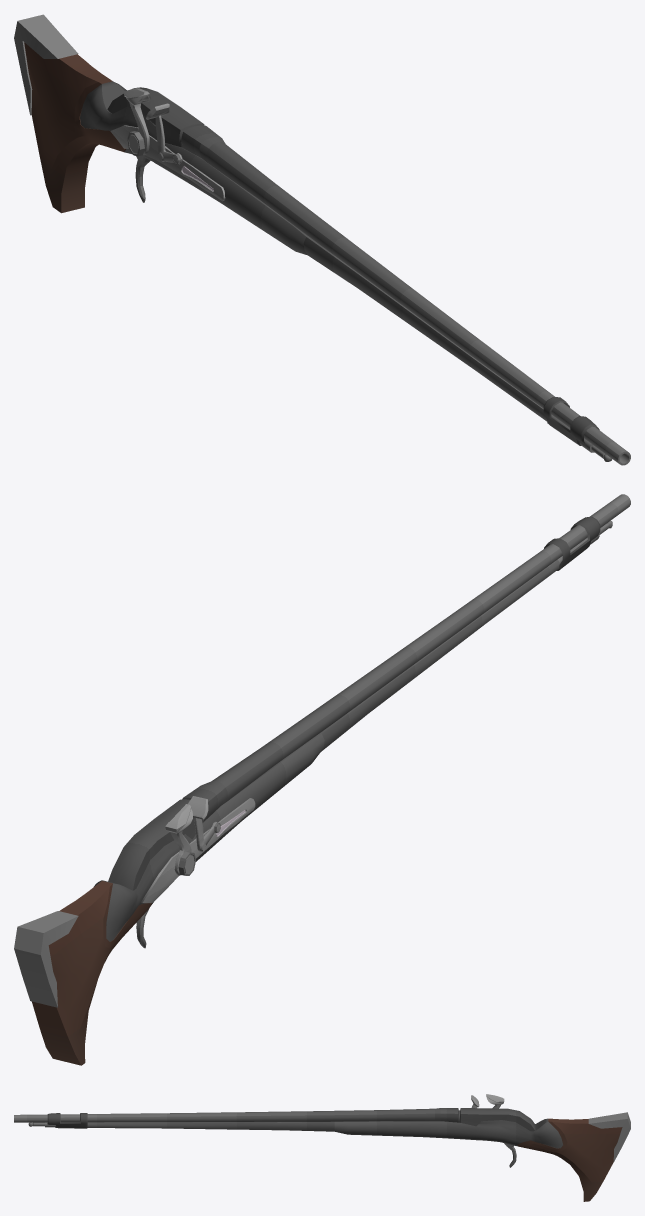
The model's file is obj.gunCraftable.fbx.
3 renders of one model, top to bottom at view 1: azimuth 30°, elevation 25°; view 2: azimuth 150°, elevation 25°; view 3: azimuth 270°, elevation 25°, orthographic. The views are drawn at different scales.
Parts seen in each view (by area): view 1: obj.buttPlate.003, obj.buttPlate.002, obj.buttPlate.001; view 2: obj.buttPlate.003, obj.buttPlate.002, obj.buttPlate.001; view 3: obj.buttPlate.003, obj.buttPlate.002, obj.buttPlate.001.
Part boxes in pixels (bbox=[...]): obj.buttPlate.003: bbox=[107, 87, 630, 465]; obj.buttPlate.002: bbox=[14, 14, 125, 213]; obj.buttPlate.001: bbox=[80, 81, 307, 255]; obj.buttPlate.003: bbox=[108, 494, 630, 890]; obj.buttPlate.002: bbox=[14, 881, 151, 1065]; obj.buttPlate.001: bbox=[94, 733, 324, 948]; obj.buttPlate.003: bbox=[14, 1108, 535, 1131]; obj.buttPlate.002: bbox=[517, 1112, 630, 1201]; obj.buttPlate.001: bbox=[334, 1094, 562, 1167].
Bounding box in the file's own units: 0.0974 × 0.3545 × 2.
